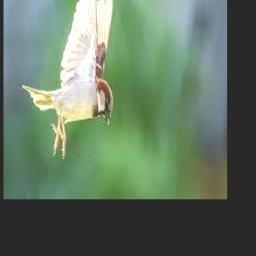Sparrow: (22, 0, 114, 158)
